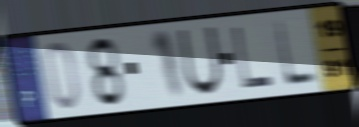0: (42, 40, 81, 112)
1: (149, 27, 187, 103)
8: (84, 32, 126, 110)
L: (272, 18, 319, 88), (230, 24, 275, 91)
U: (176, 24, 225, 98)
